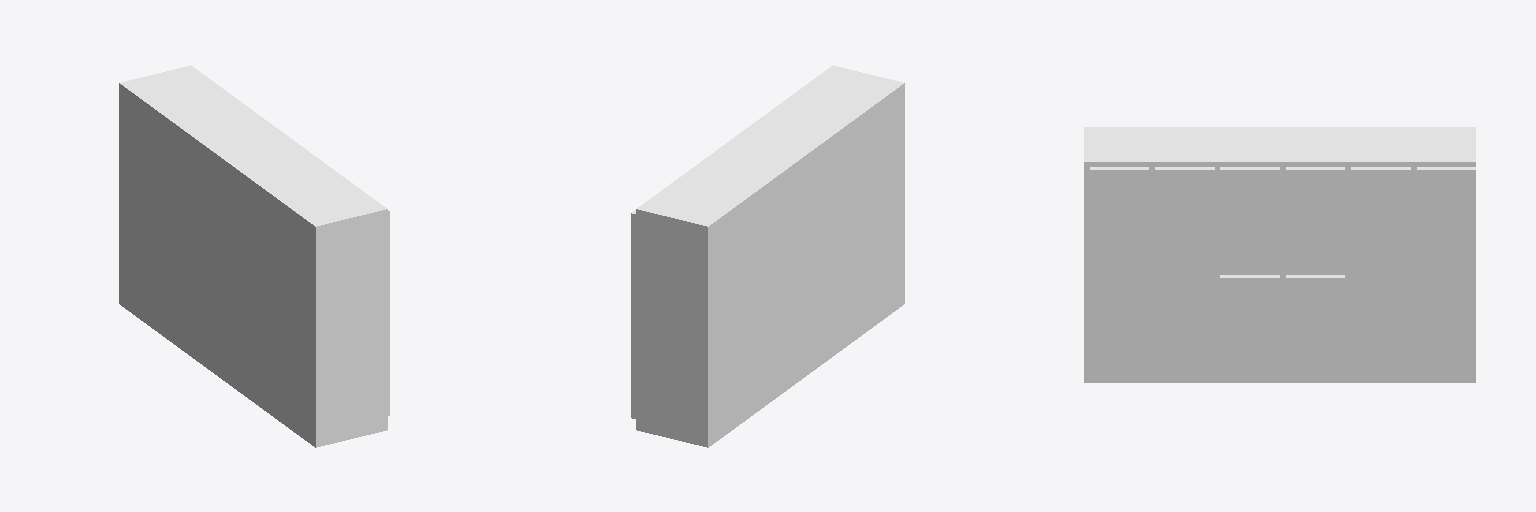
File: Lockers.obj
3 renders of one model, left to right at view 1: azimuth 30°, elevation 25°; view 2: azimuth 150°, elevation 25°; view 3: azimuth 270°, elevation 25°, orthographic.
Visible parts, largest first — view 1: object 1; view 2: object 1; view 3: object 1.
Part boxes in pixels (left/top/right/bottom): object 1: left=119, top=65, right=389, bottom=447; object 1: left=631, top=65, right=904, bottom=447; object 1: left=1084, top=127, right=1475, bottom=382.
Bounding box in the file's own units: 1.5 × 4.1 × 6.6.